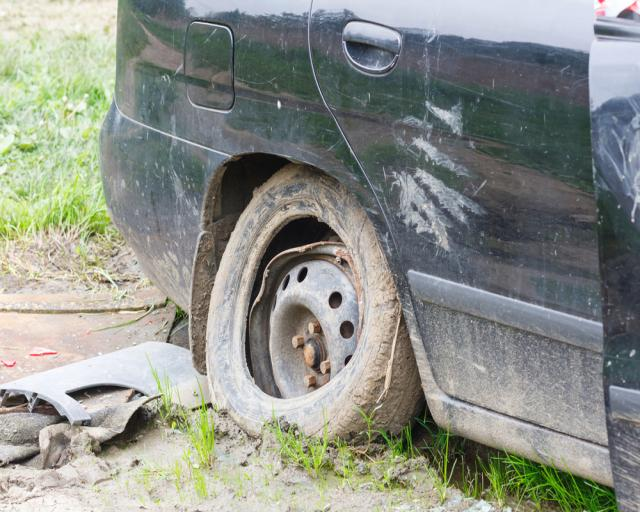scratch: (390, 95, 489, 256)
tire flat: (204, 164, 417, 449)
